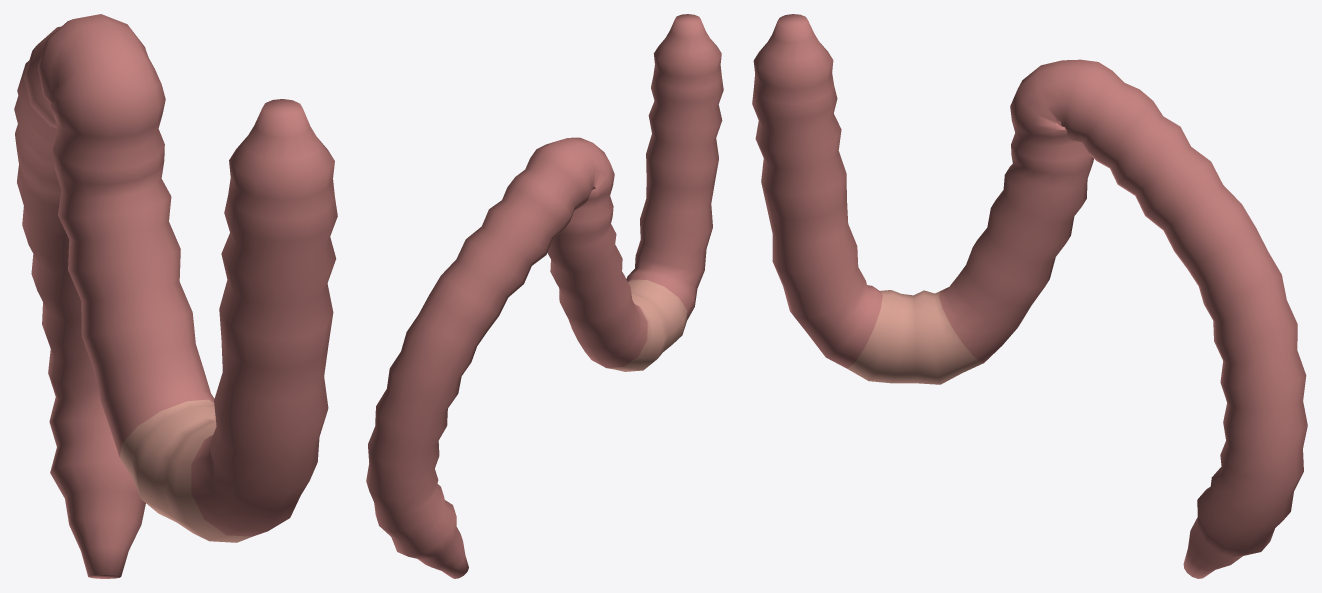
The model's file is hook_worm.fbx.
The picture shows the model from 3 angles, left to right: view 1: azimuth 30°, elevation 25°; view 2: azimuth 150°, elevation 25°; view 3: azimuth 270°, elevation 25°; orthographic projection. The views are drawn at different scales.
Parts seen in each view (by area): view 1: hook_worm; view 2: hook_worm; view 3: hook_worm.
Part boxes in pixels (box(x1,y1,x2,y2)): hook_worm: box(14, 14, 337, 578); hook_worm: box(366, 14, 723, 578); hook_worm: box(752, 14, 1307, 578).
Bounding box in the file's own units: 1.06 × 2.99 × 2.88.
